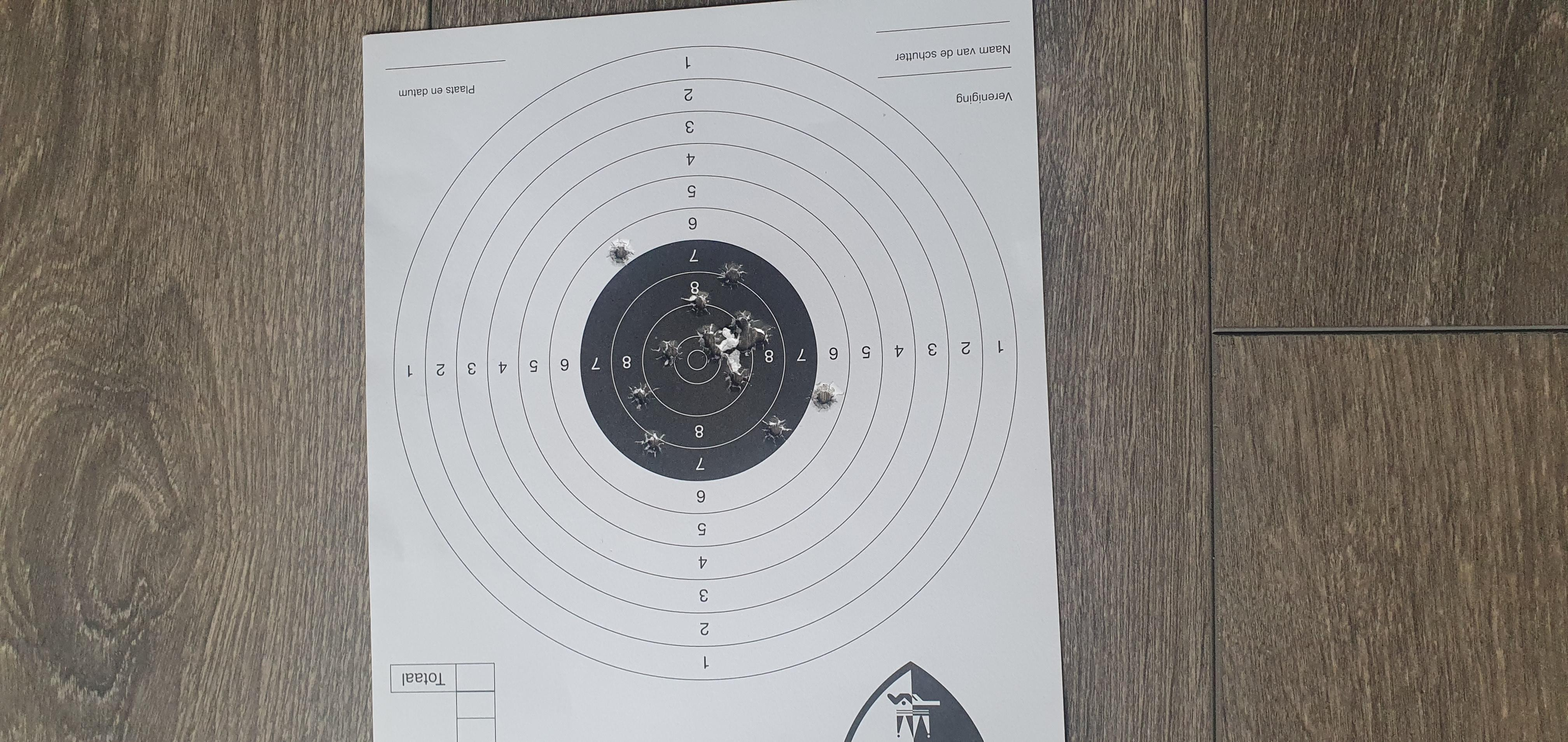hole: (806, 382, 844, 415), (602, 234, 636, 266), (759, 416, 793, 447), (679, 288, 712, 319), (650, 338, 684, 368), (626, 381, 661, 410), (716, 259, 747, 291), (635, 429, 666, 459), (723, 363, 752, 392), (696, 323, 720, 352), (703, 341, 727, 366), (752, 324, 774, 351), (729, 311, 753, 333), (732, 330, 752, 355)
